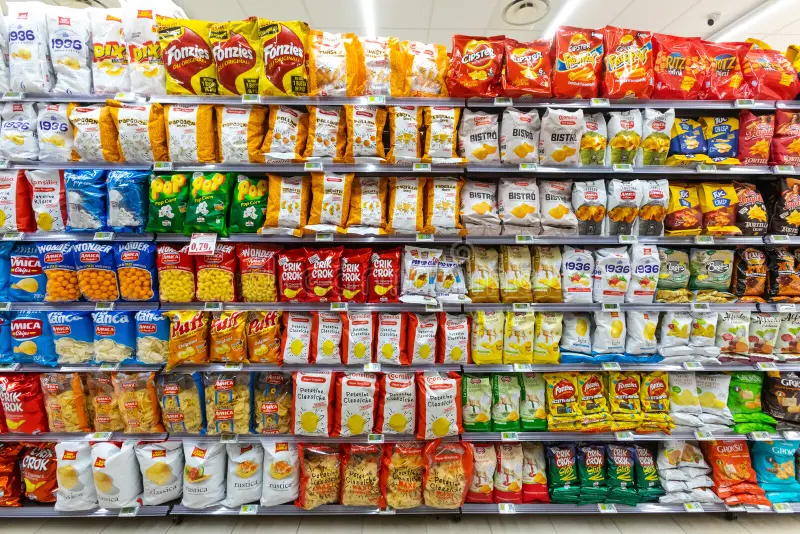snacks: (182, 170, 233, 236), (384, 178, 428, 234), (238, 243, 279, 302), (377, 371, 416, 433), (369, 249, 401, 300)
